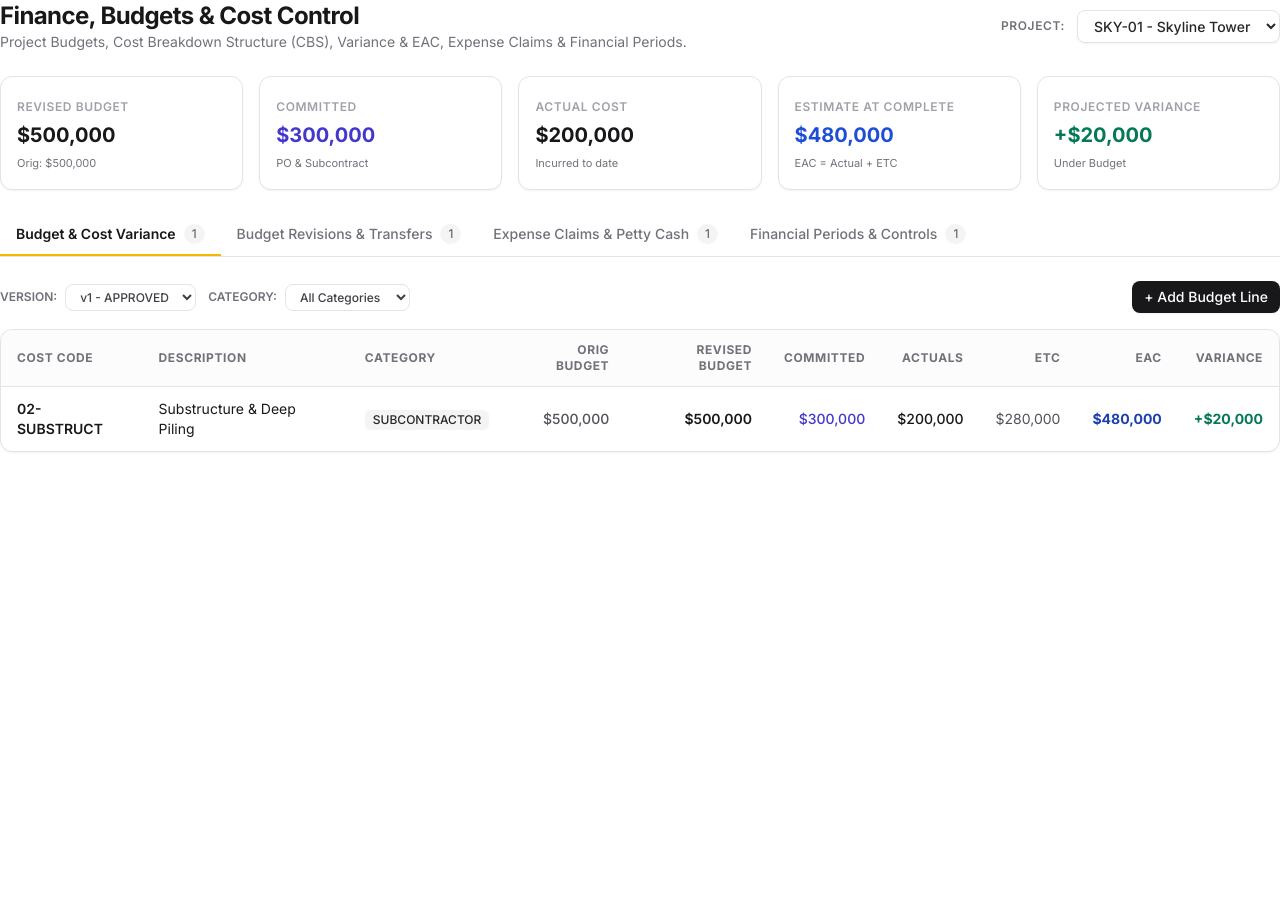
Scenario: FinancePage Component › opens '+ Add Budget Line' modal when clicked
Click the button "+ Add Budget Line". click: (1206, 297)
box: [1132,281,1279,313]
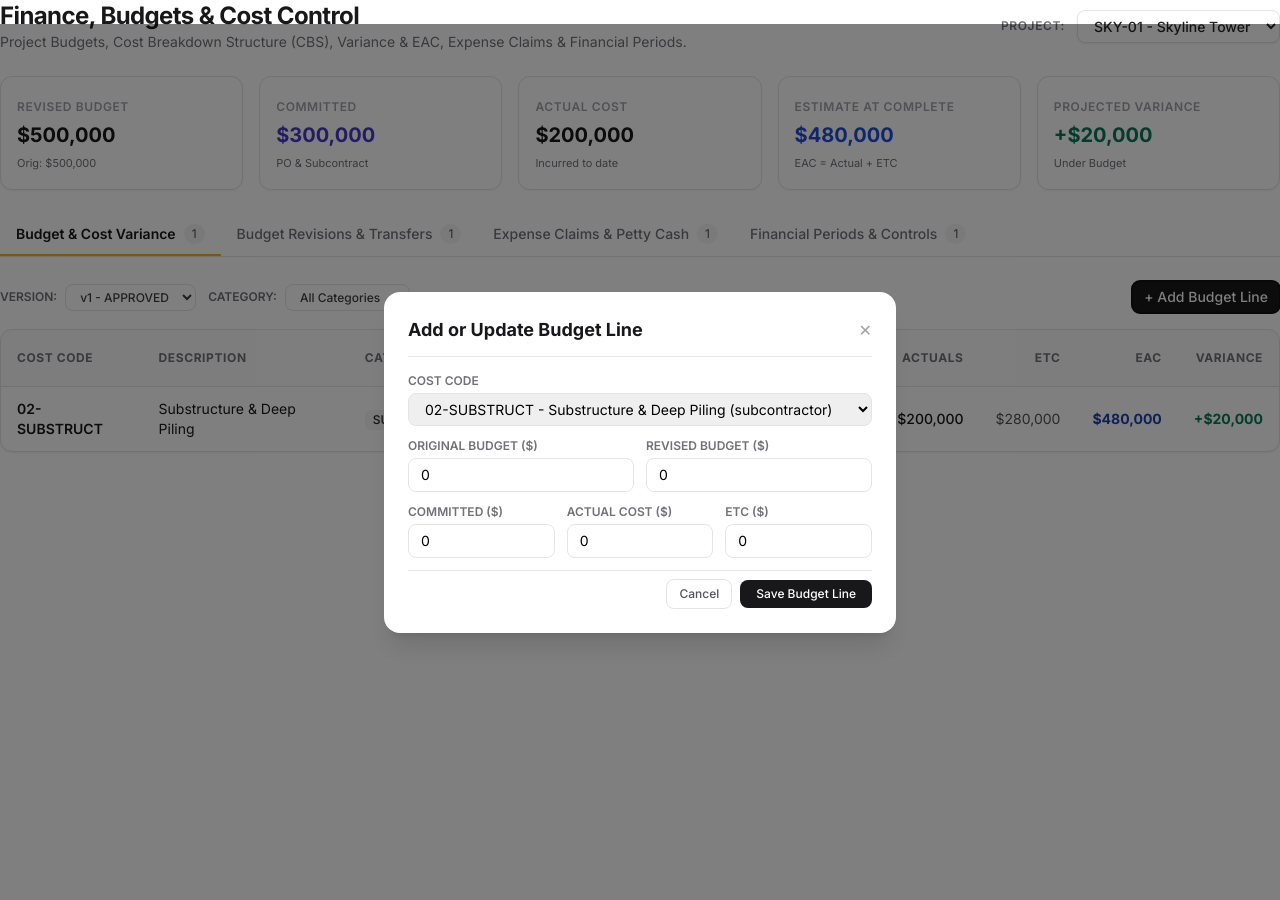
Expected: the heading "Add or Update Budget Line" is shown, [408,316,643,344]
Expected: the button "Save Budget Line" is shown, [740,580,872,608]
